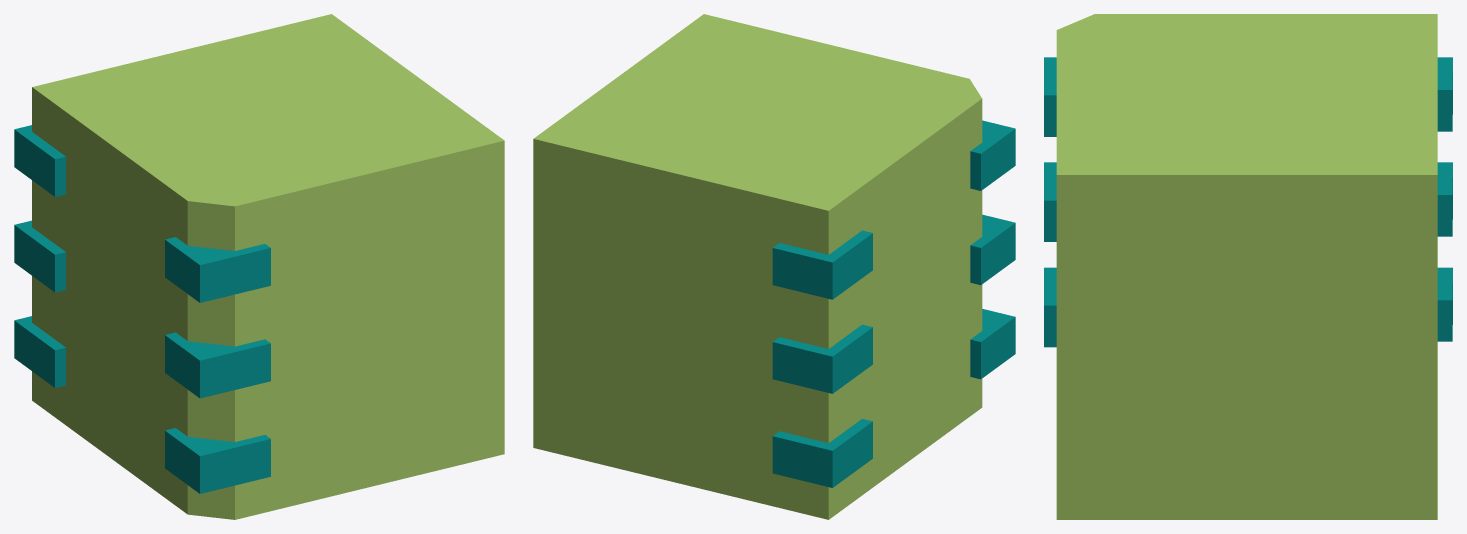
File: 1Right Connect bluegreen.fbx
The picture shows the model from 3 angles, left to right: view 1: azimuth 30°, elevation 25°; view 2: azimuth 150°, elevation 25°; view 3: azimuth 270°, elevation 25°; orthographic projection. The views are drawn at different scales.
Parts seen in each view (by area): view 1: pCube2, pCube4, pCube5, pCube3, pCube6, pCube8, pCube7; view 2: pCube2, pCube8, pCube6, pCube7, pCube4, pCube3, pCube5; view 3: pCube2, pCube6, pCube8, pCube7, pCube5, pCube3, pCube4.
Boxes of the visible parts, x1,y1,x2,y2 form: pCube2: (32,14,504,519); pCube4: (165,332,270,398); pCube5: (165,428,270,493); pCube3: (165,237,270,302); pCube6: (14,220,65,292); pCube8: (14,125,65,196); pCube7: (14,316,65,387); pCube2: (533,14,982,519); pCube8: (772,230,872,299); pCube6: (772,324,872,393); pCube7: (772,418,872,487); pCube4: (970,214,1015,285); pCube3: (970,120,1015,190); pCube5: (970,309,1015,379); pCube2: (1056,14,1437,519); pCube6: (1437,162,1452,236); pCube8: (1437,57,1452,131); pCube7: (1437,267,1452,341); pCube5: (1044,267,1056,347); pCube3: (1044,57,1056,136); pCube4: (1044,162,1056,241).
Bounding box in the file's own units: 2.07 × 2 × 2.15.
